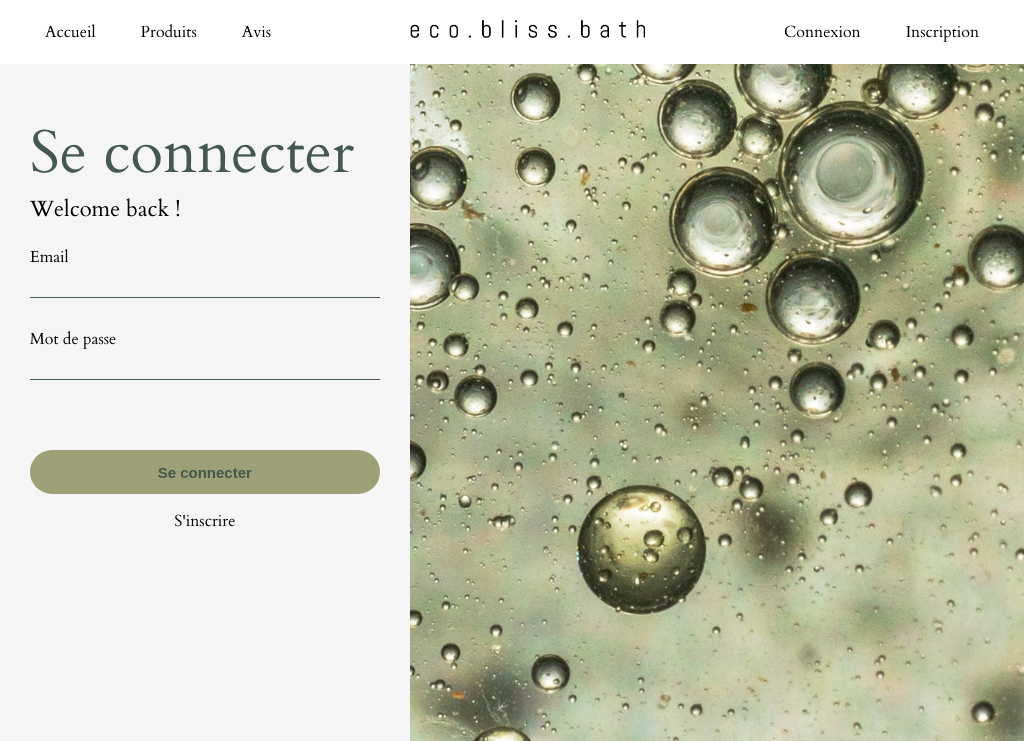
Test: Smoke Tests › Boutons d'ajout au panier quand l'utilisateur est connecté › devrait afficher le bouton Ajouter au panier sur une fiche produit
The width and height of the screenshot is (1024, 741).
# On saisit l'email d'un utilisateur connu
Type "test2@test.fr" into the field with test id "login-input-username" at (205, 283), box [30, 268, 380, 298]
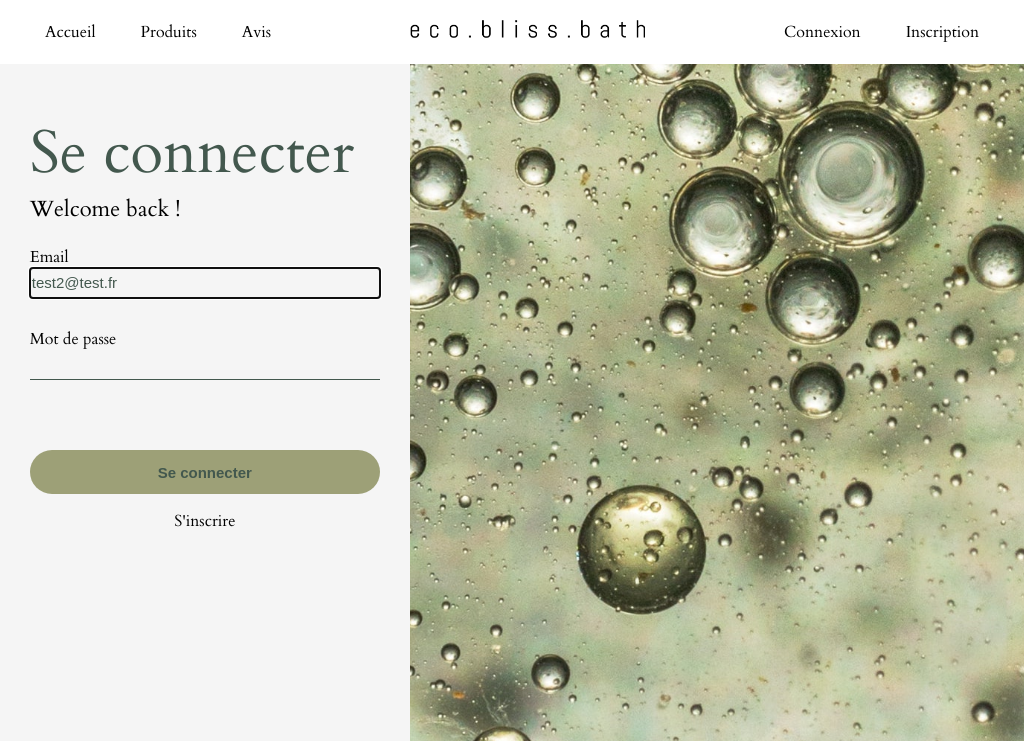
# On saisit le mot de passe
Type "testtest" into the password field with test id "login-input-password" at (205, 365), box [30, 350, 380, 380]
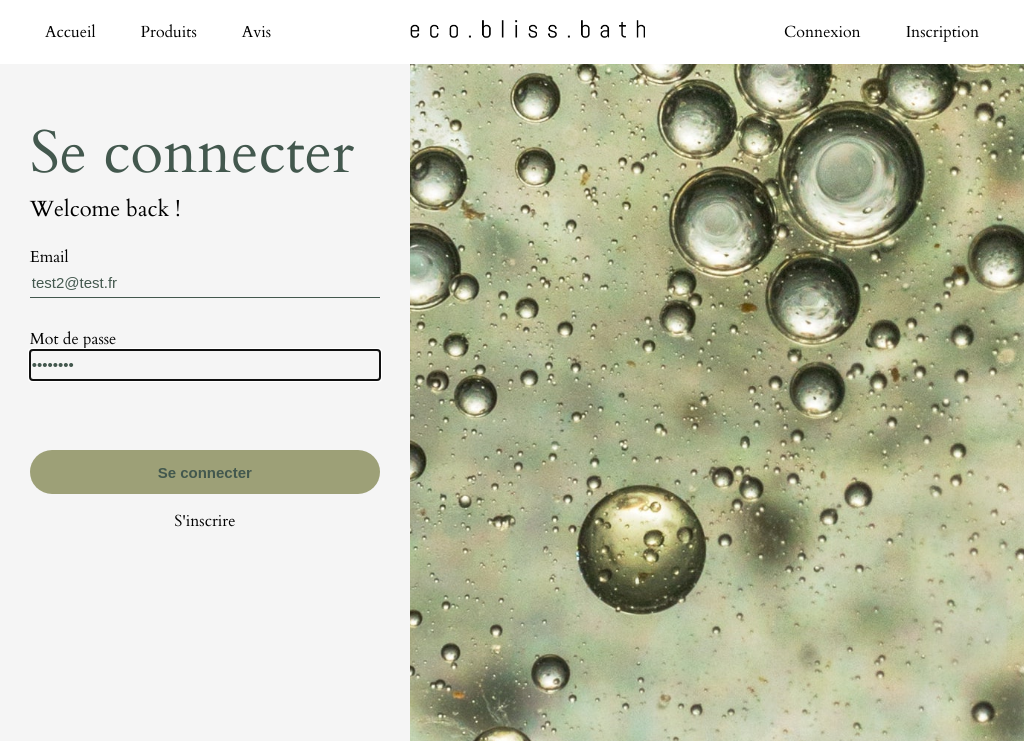
# On clique sur le bouton de connexion
Click the heading "Se connecter" at (205, 154), box [30, 113, 380, 194]
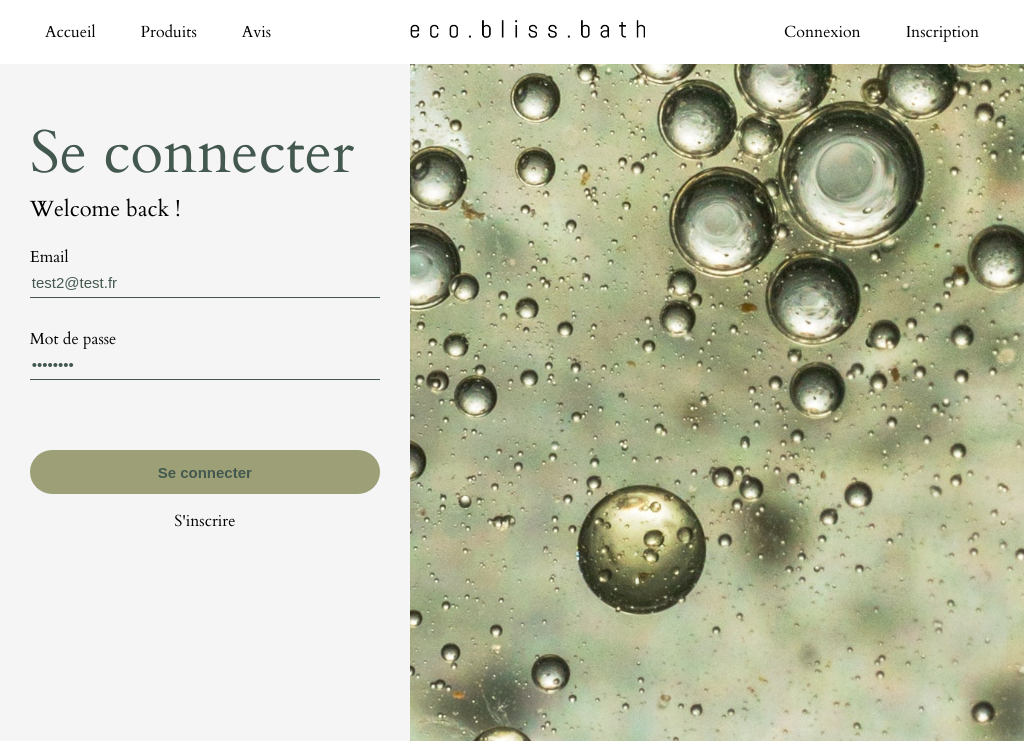
Open "/#/products/3"
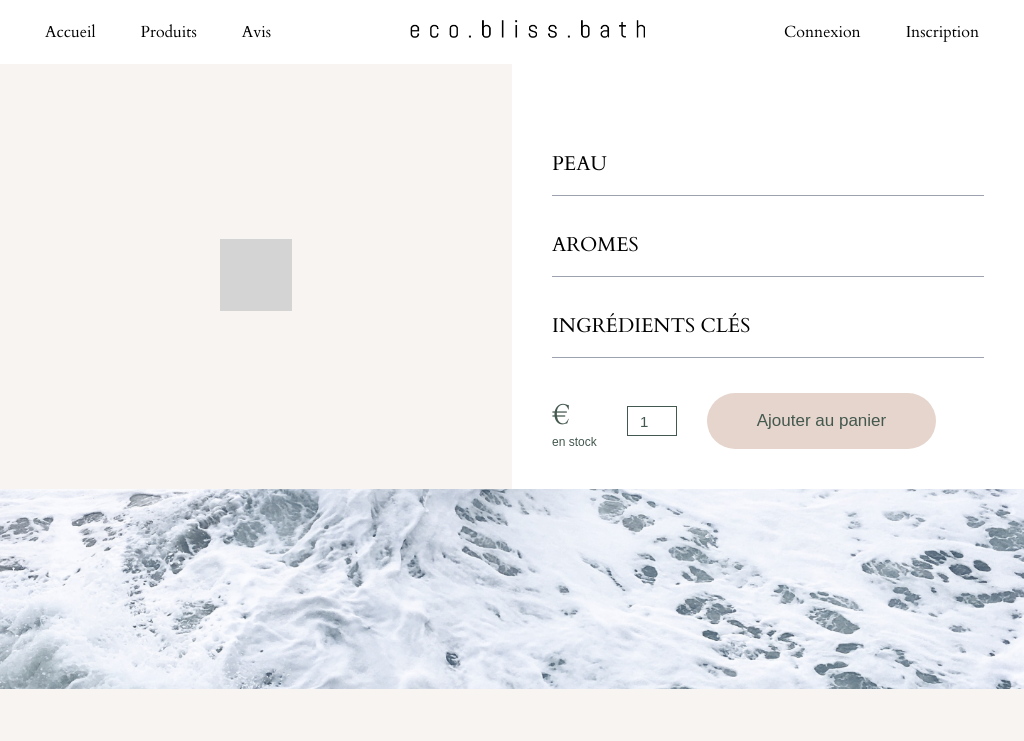
Expected: the button "Ajouter au panier" is shown, [707, 393, 936, 449]
